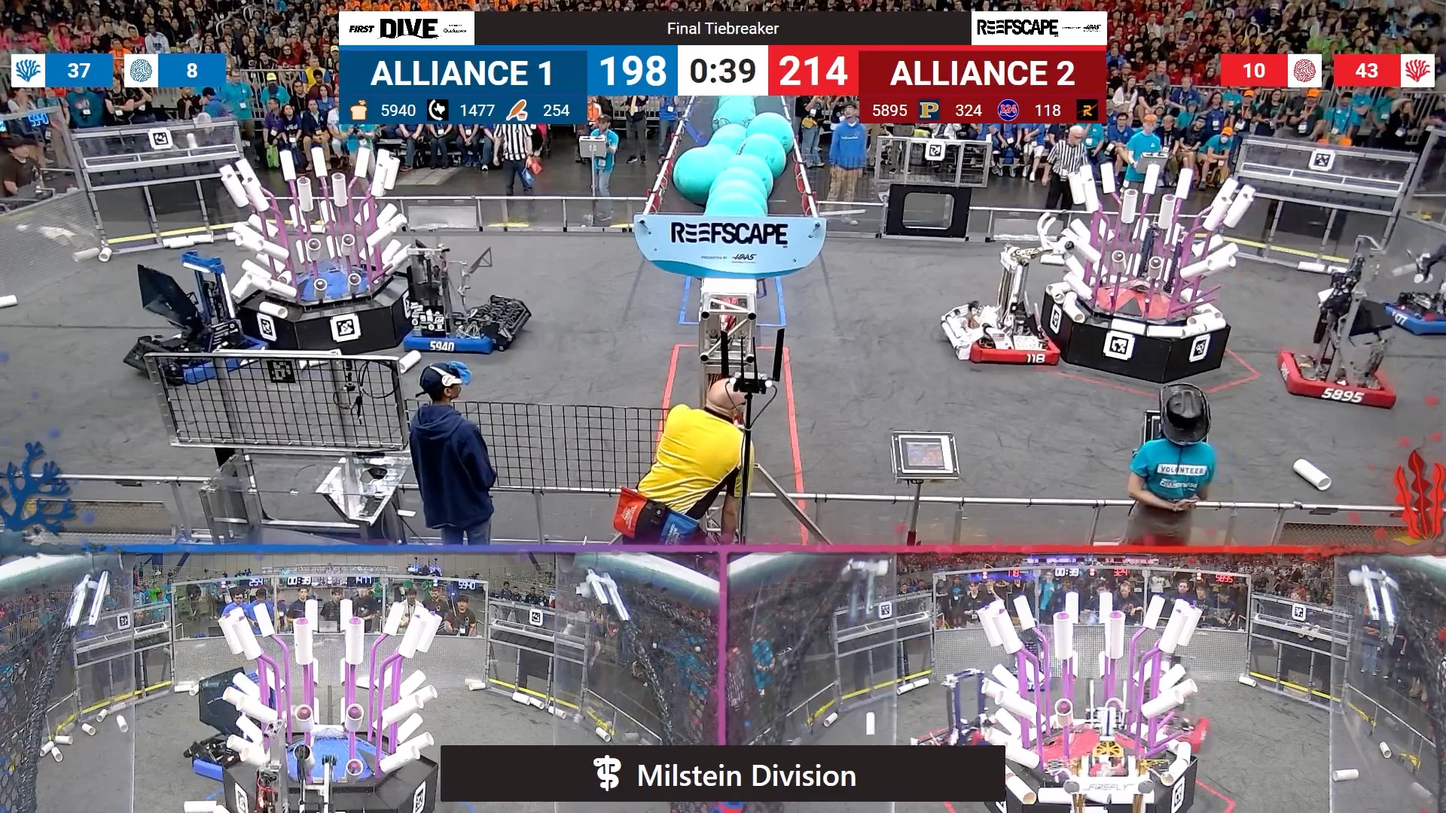bumpers: (1271, 344, 1405, 412), (396, 297, 527, 359), (131, 332, 258, 388), (960, 321, 1069, 372), (1129, 711, 1217, 755), (1375, 289, 1446, 341), (185, 746, 250, 782)
